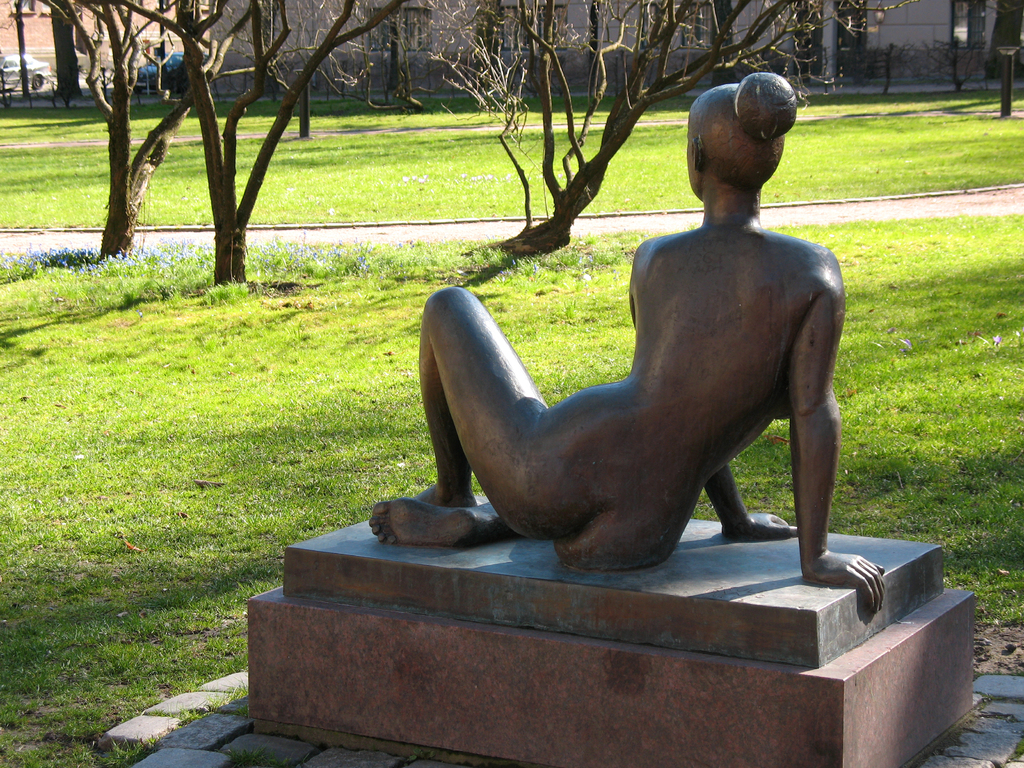Tree: (33, 0, 910, 288), (6, 0, 32, 97)
